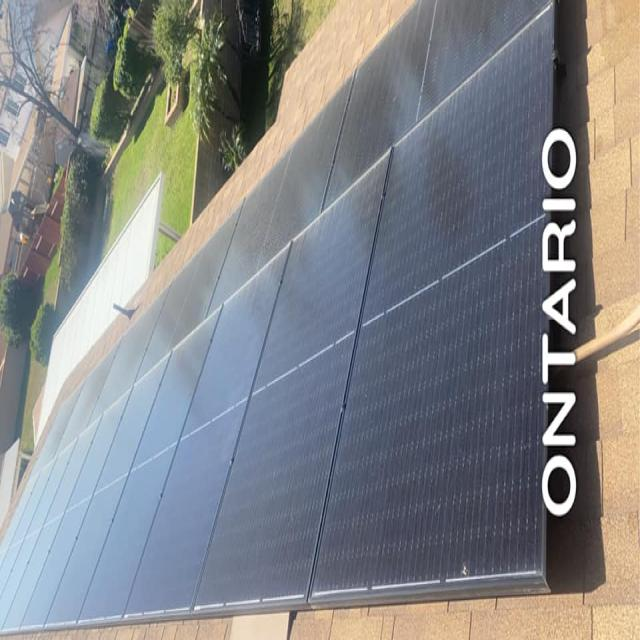dusty: (46, 1, 551, 462)
